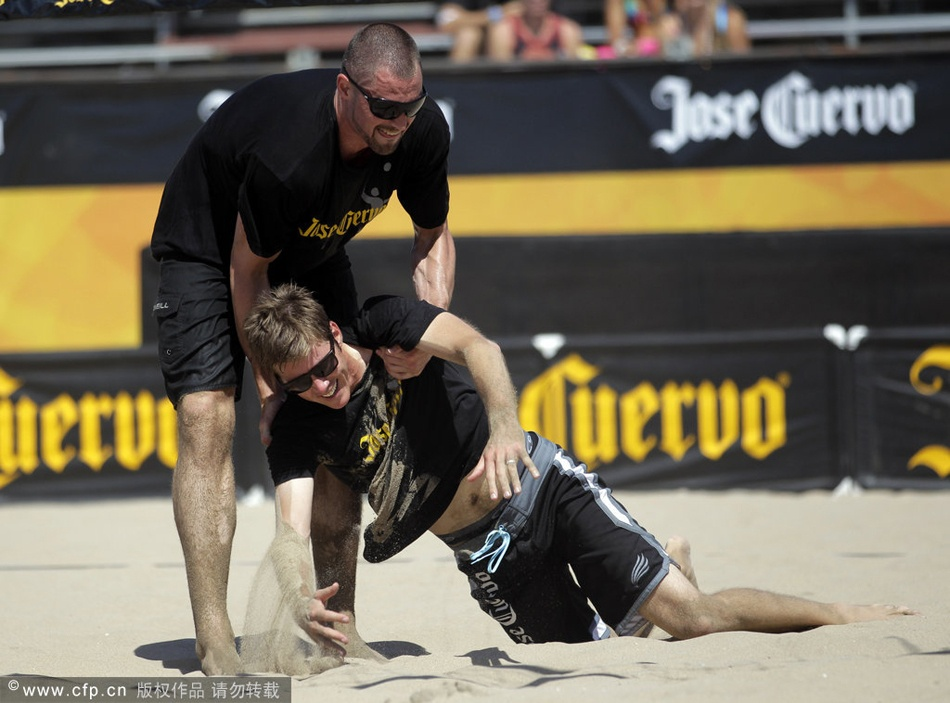falling: (229, 265, 921, 667)
